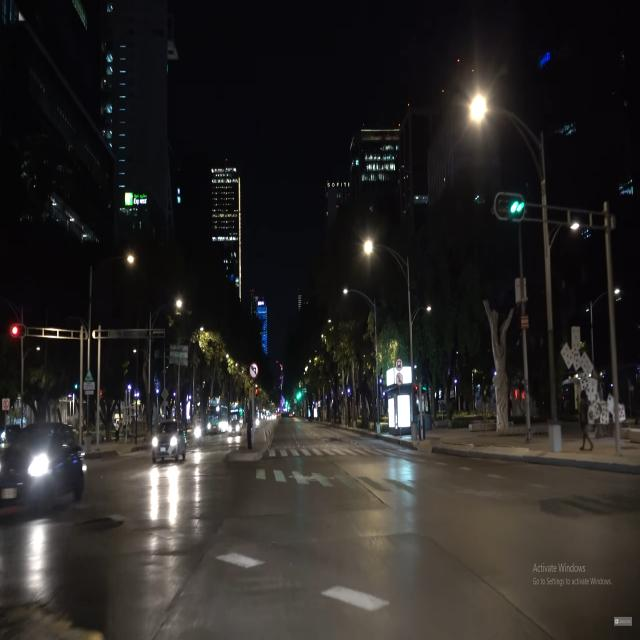headlights: (145, 431, 184, 456)
